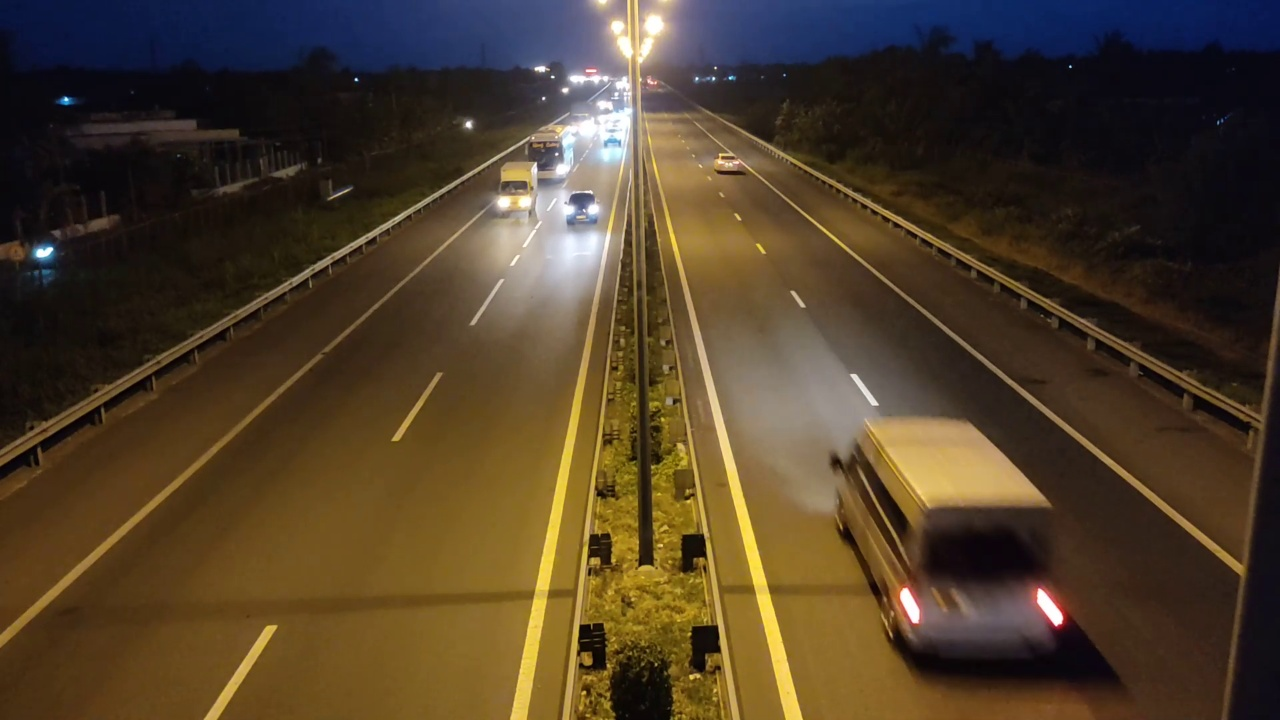car: (564, 189, 601, 226), (713, 153, 748, 175)
